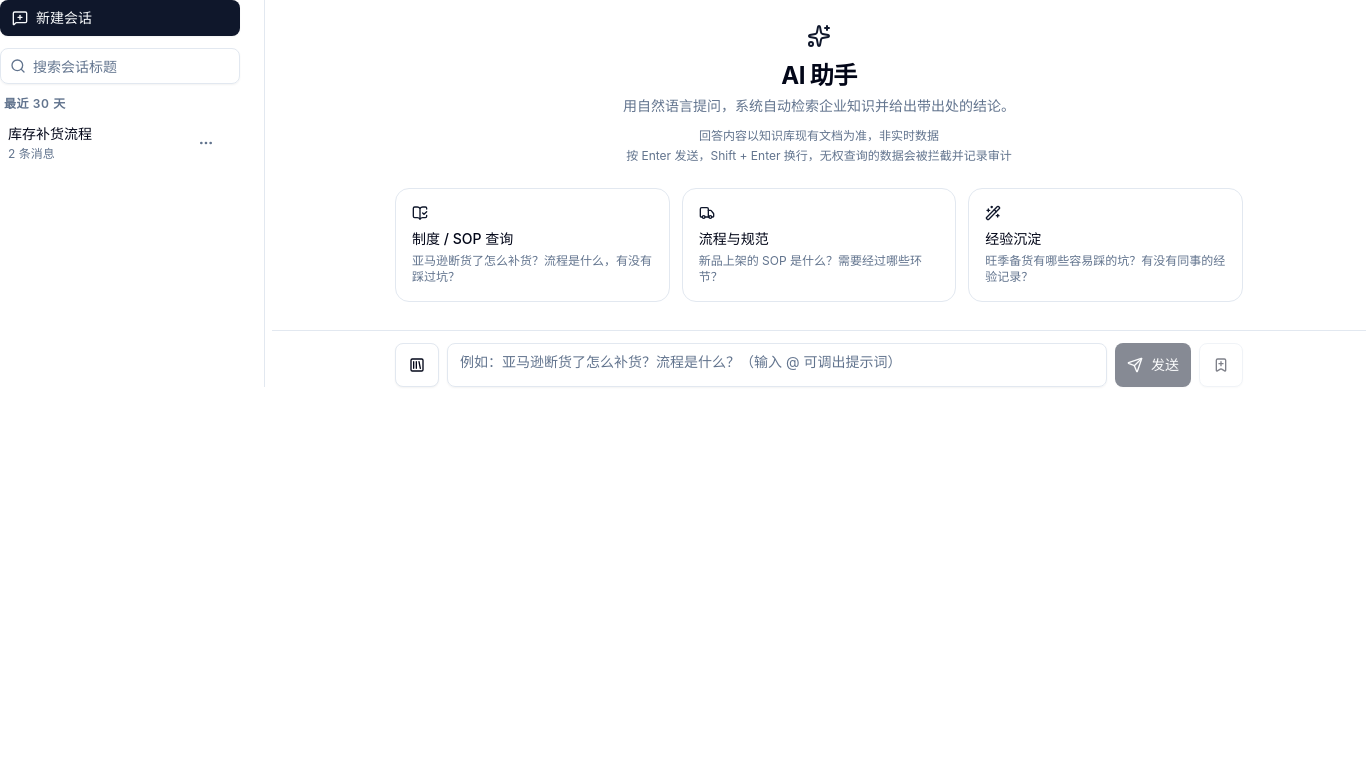
Test case: 会话列表的「⋯」操作菜单与删除 › 删除正在查看的会话后回到新会话空态
The image size is (1366, 768).
Click the button "库存补货流程 2 条消息" at (96, 143), box [8,124,184,162]
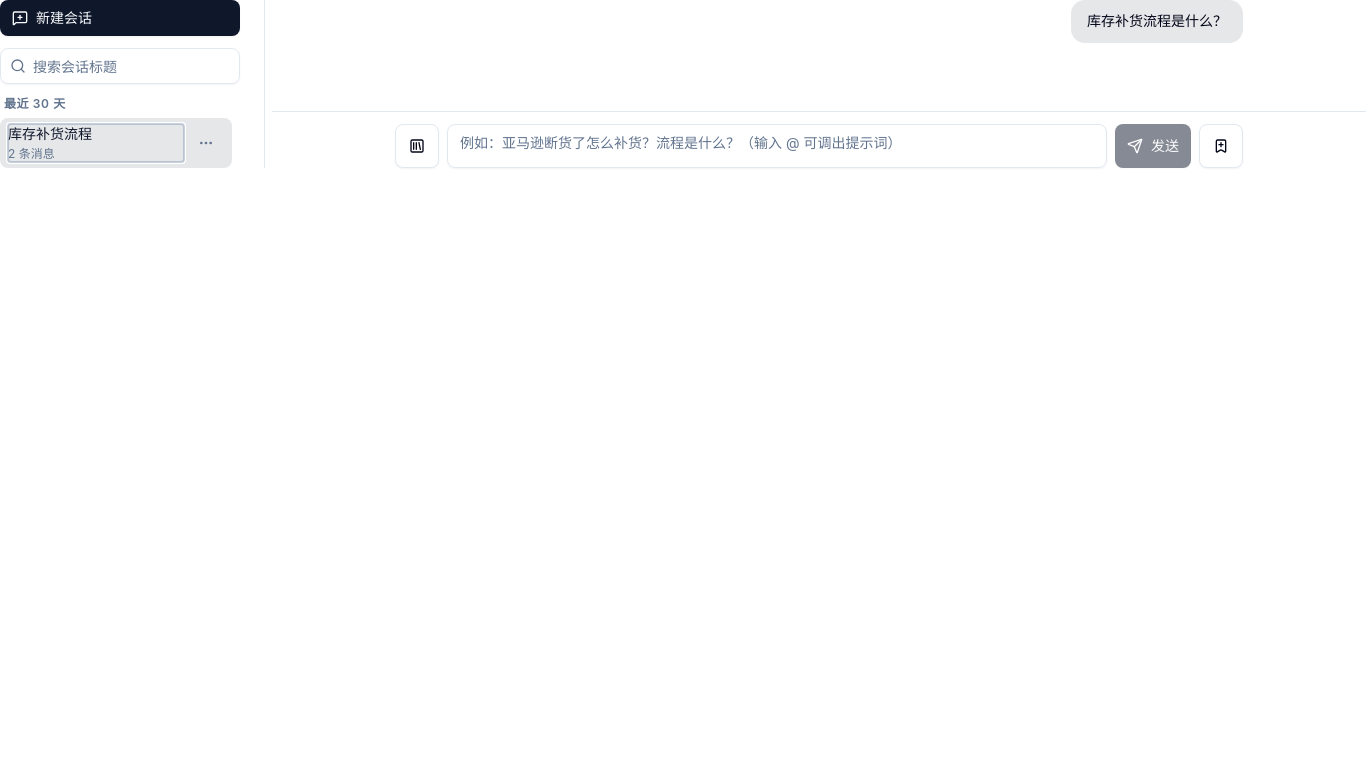
Result: the text "库存补货流程是什么？" is shown at [1087,10,1227,33]
Click the button named "会话操作：库存补货流程" at (206, 143), box [188,125,224,161]
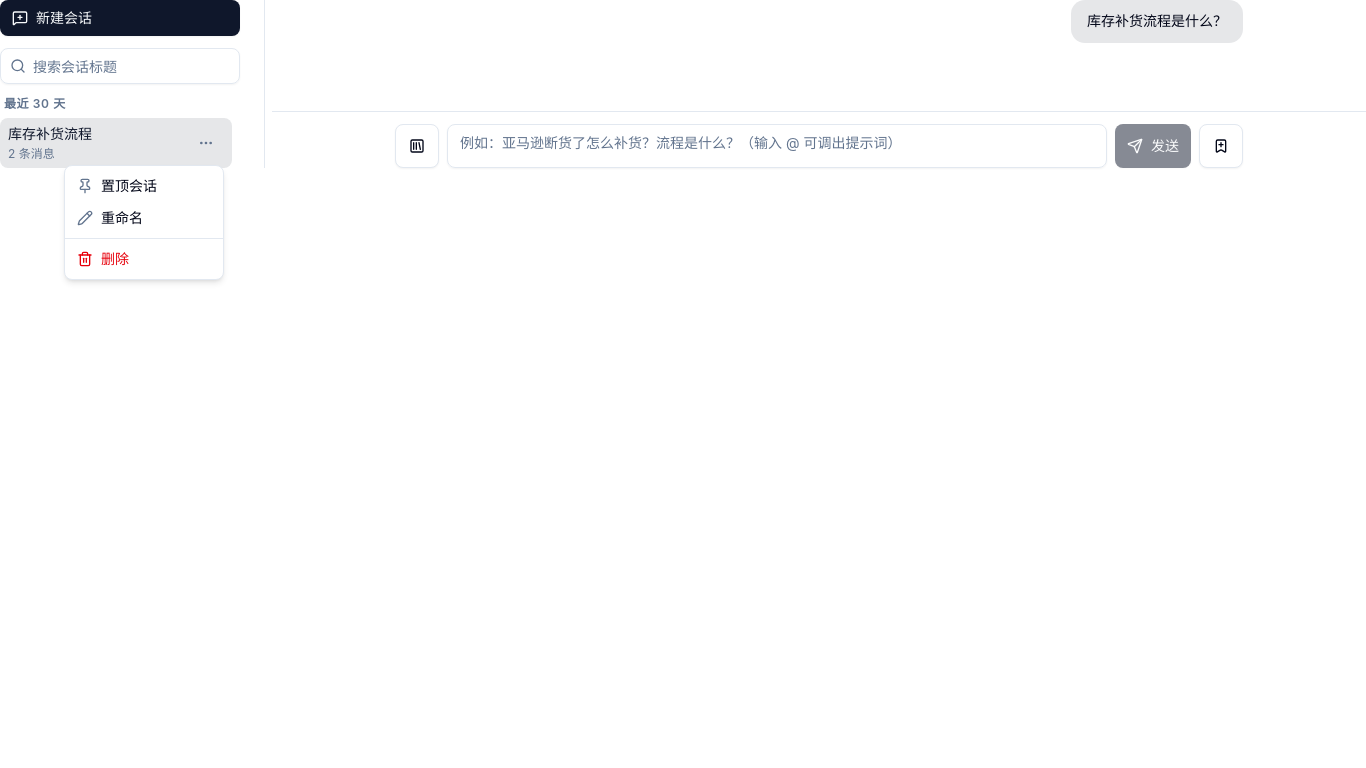
Click the menu item "删除" at (103, 258), box [77,250,129,267]
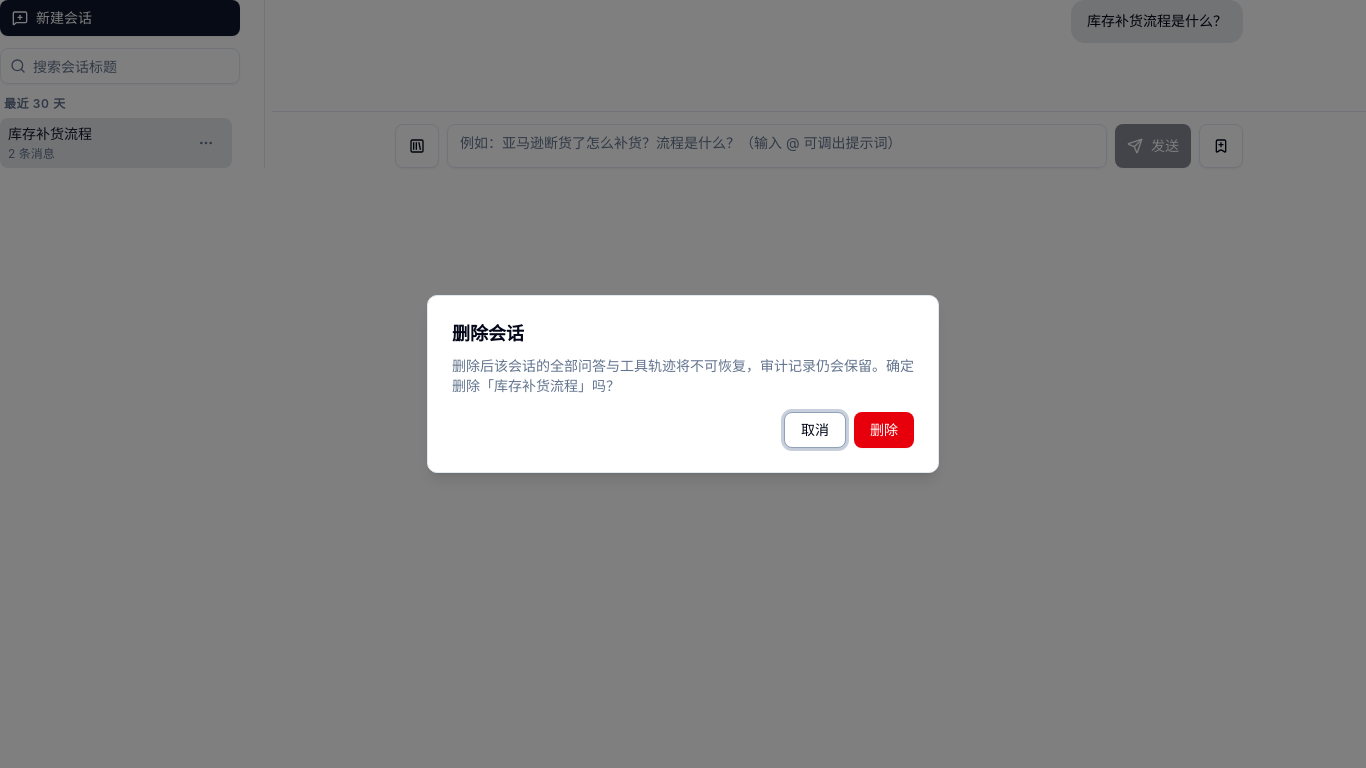
Click the button "删除" at (884, 430), box [854,412,914,448]
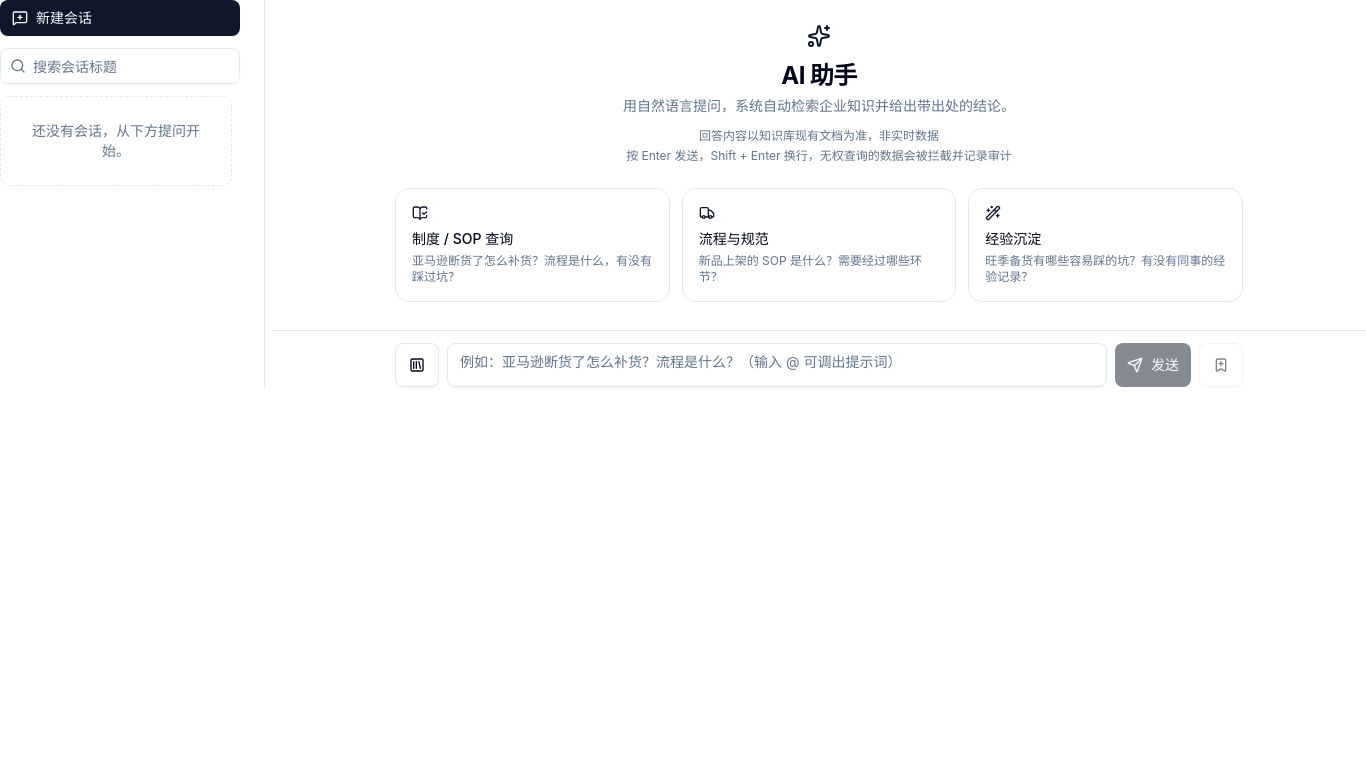
Result: the text "用自然语言提问，系统自动检索企业知识并给出带出处的结论。" is shown at [623,97,1015,114]
